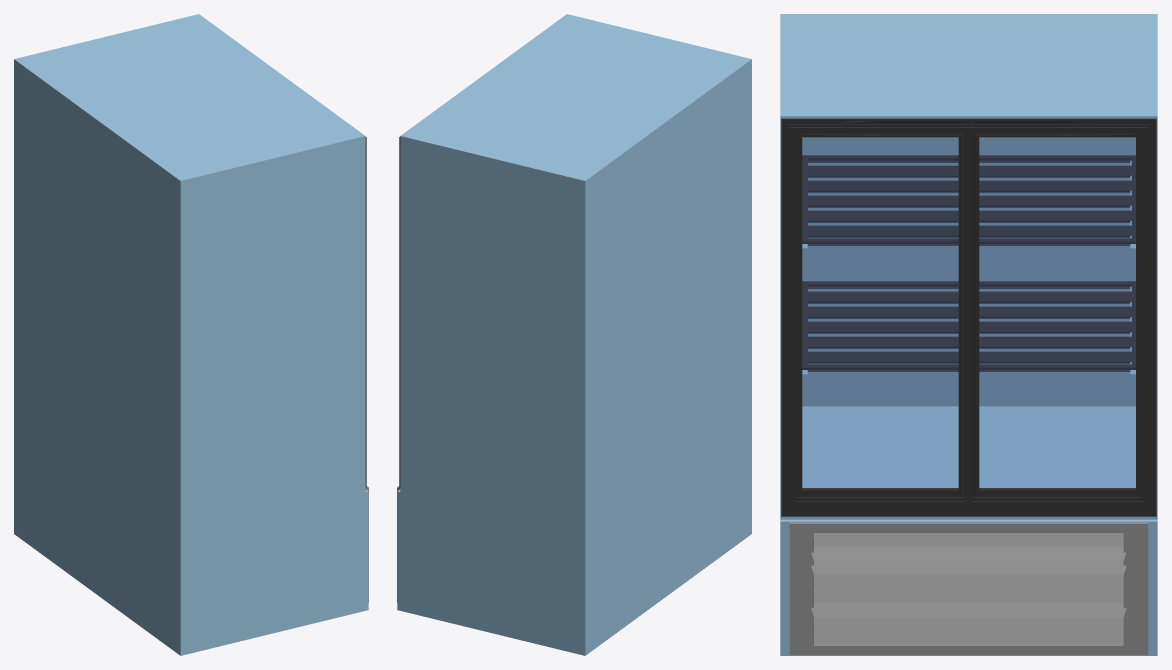
File: Fridge.fbx
The picture shows the model from 3 angles, left to right: view 1: azimuth 30°, elevation 25°; view 2: azimuth 150°, elevation 25°; view 3: azimuth 270°, elevation 25°; orthographic projection. The views are drawn at different scales.
Parts seen in each view (by area): view 1: Cube, Plane.002; view 2: Cube, Plane.002; view 3: Cube, Plane.001, Plane, Plane.005, Plane.002, Plane.003, Plane.004.
Boxes of the visible parts, box(x1,y1,x2,y2) form: Cube: box(14, 14, 368, 655); Plane.002: box(365, 137, 366, 487); Cube: box(397, 14, 751, 655); Plane.002: box(399, 137, 400, 487); Cube: box(780, 14, 1157, 655); Plane.001: box(980, 138, 1135, 487); Plane: box(803, 138, 957, 487); Plane.005: box(789, 522, 1148, 654); Plane.002: box(781, 118, 1156, 516); Plane.003: box(802, 281, 1135, 371); Plane.004: box(802, 155, 1135, 245).
Size of the model in its own units: 310 by 717 by 456.
